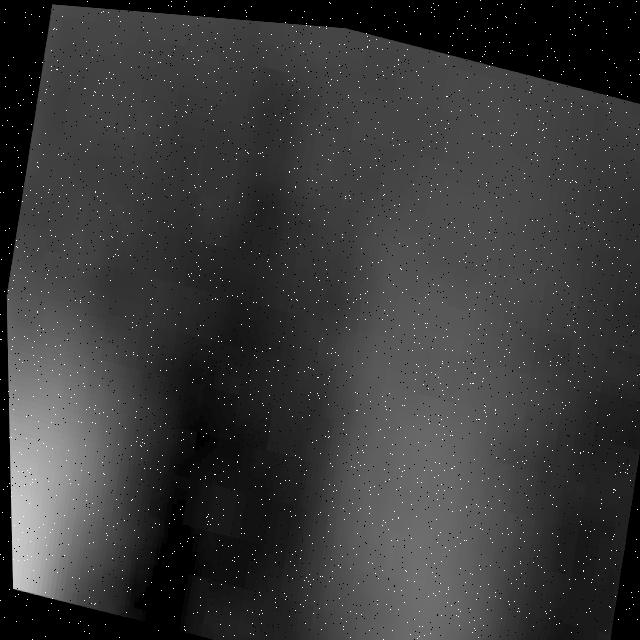person: (7, 335, 134, 611)
